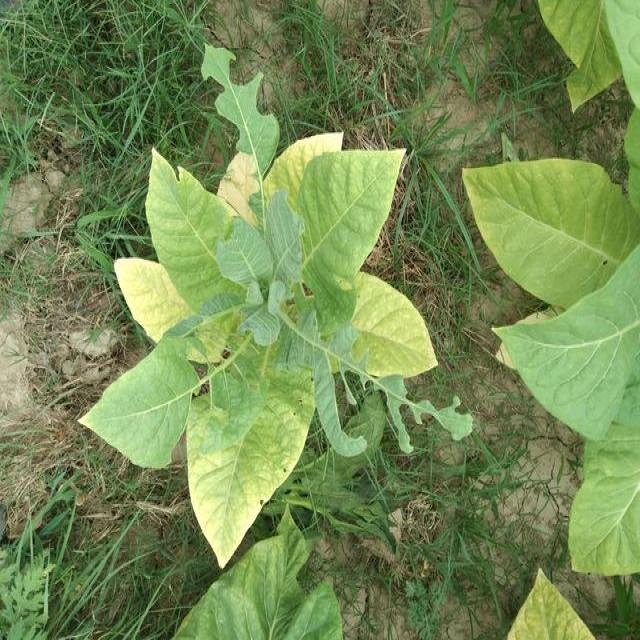crop: (84, 51, 438, 564)
